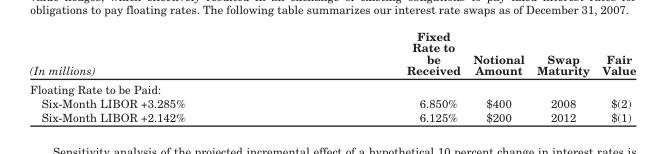table: (29, 28, 635, 123)
table column: (29, 28, 295, 123), (295, 28, 466, 123), (529, 28, 595, 123), (466, 28, 529, 123), (595, 28, 635, 123)
table column header: (29, 28, 635, 79)
table projected row header: (29, 79, 635, 95)
table row: (29, 28, 635, 79), (29, 79, 635, 95), (29, 95, 635, 109), (29, 109, 635, 123)
